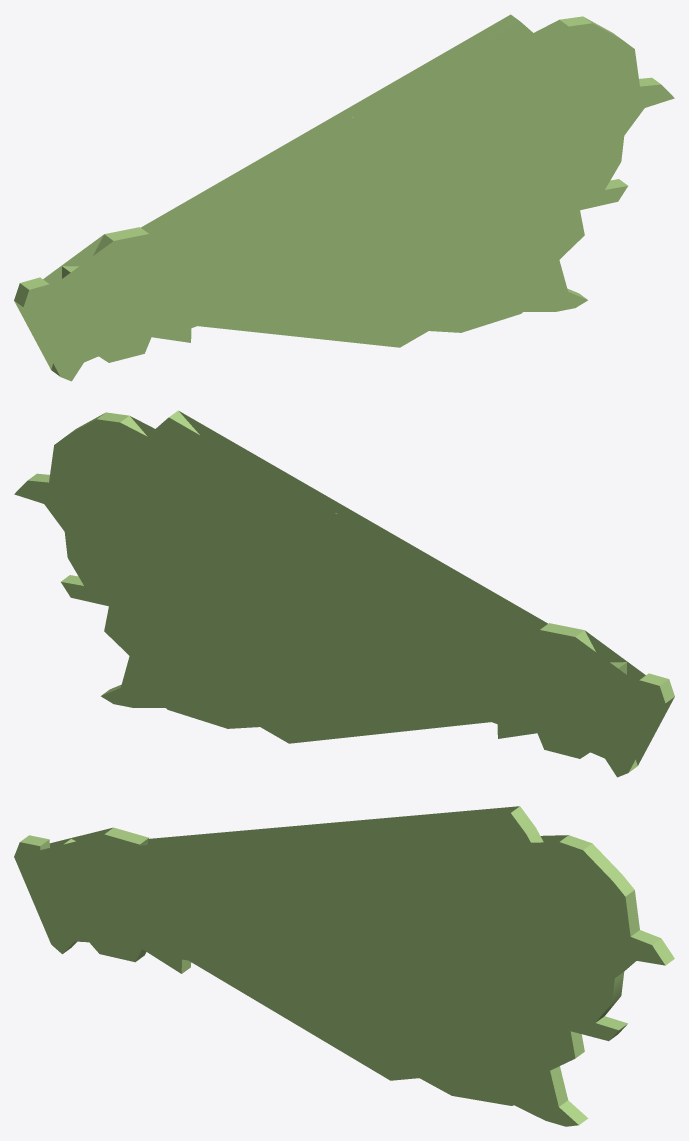
File: santiago_papasquiaro.fbx
3 renders of one model, top to bottom at view 1: azimuth 30°, elevation 25°; view 2: azimuth 150°, elevation 25°; view 3: azimuth 330°, elevation 25°, orthographic.
Parts seen in each view (by area): view 1: santiago_papasquiaro; view 2: santiago_papasquiaro; view 3: santiago_papasquiaro.
Boxes of the visible parts, bbox=[...] form: santiago_papasquiaro: bbox=[14, 14, 674, 381]; santiago_papasquiaro: bbox=[14, 410, 674, 777]; santiago_papasquiaro: bbox=[14, 806, 674, 1126].
Bounding box in the file's own units: 321 × 141 × 8.
